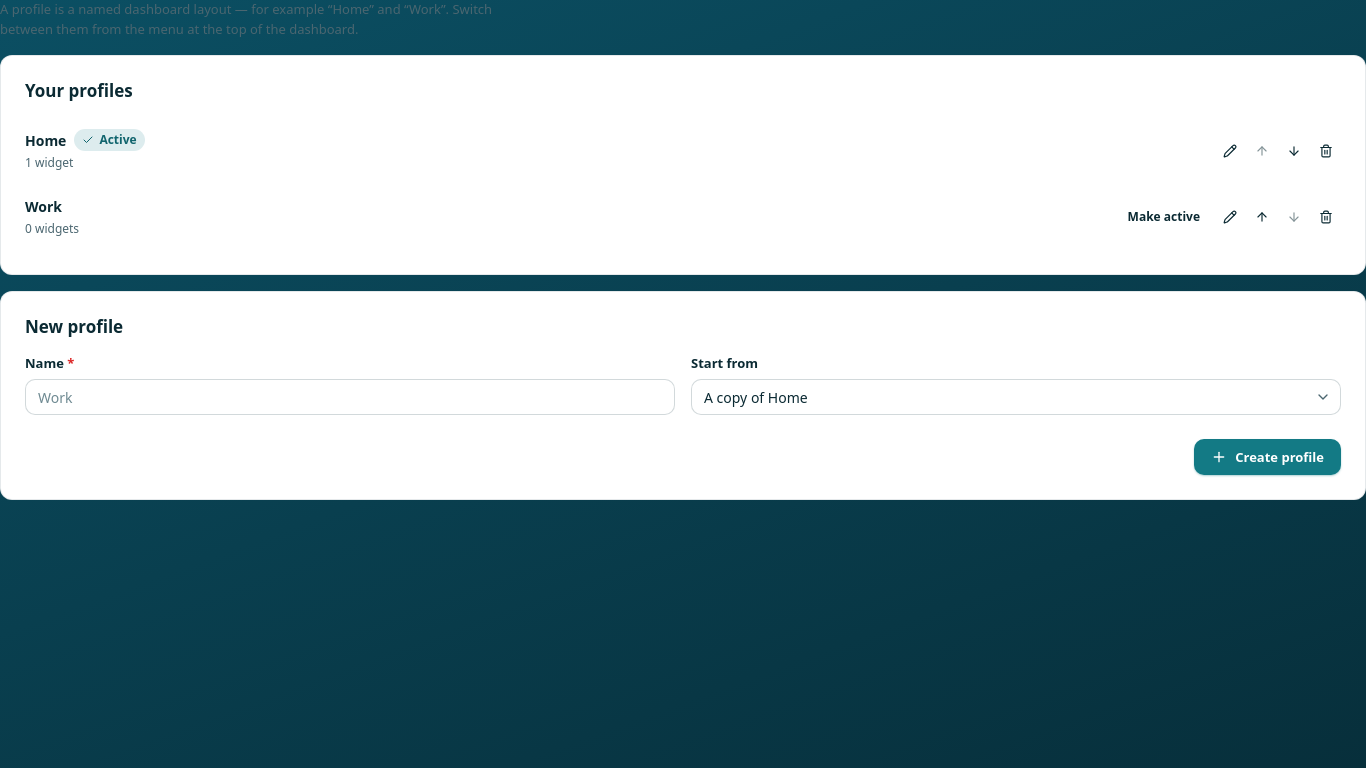
Test: Profiles settings › renames, reorders, activates and deletes
The image size is (1366, 768).
Click the button named "Rename Work" at point(1230, 217), box [1215,202,1245,232]
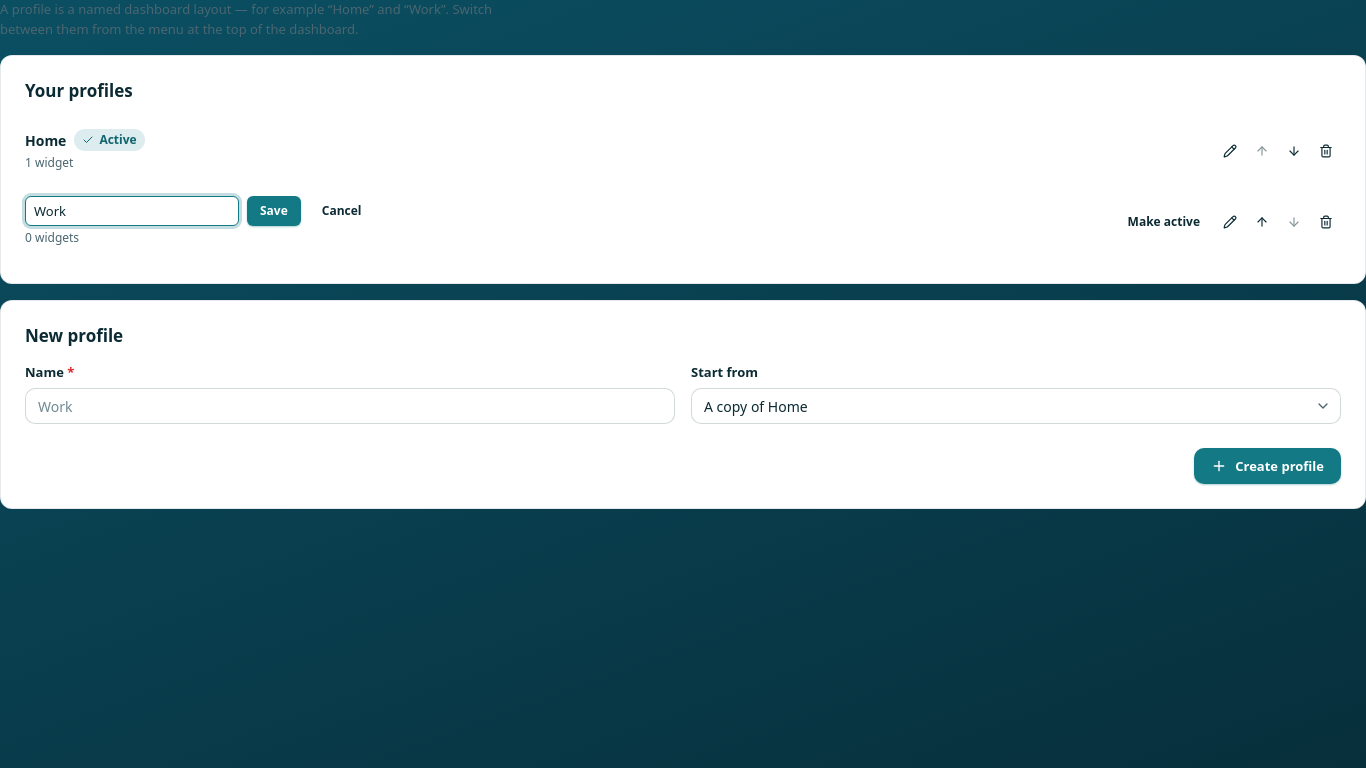
Replace the text in the field named "Profile name" with "Office" at point(132, 211), box [25,196,239,226]
Then press Enter
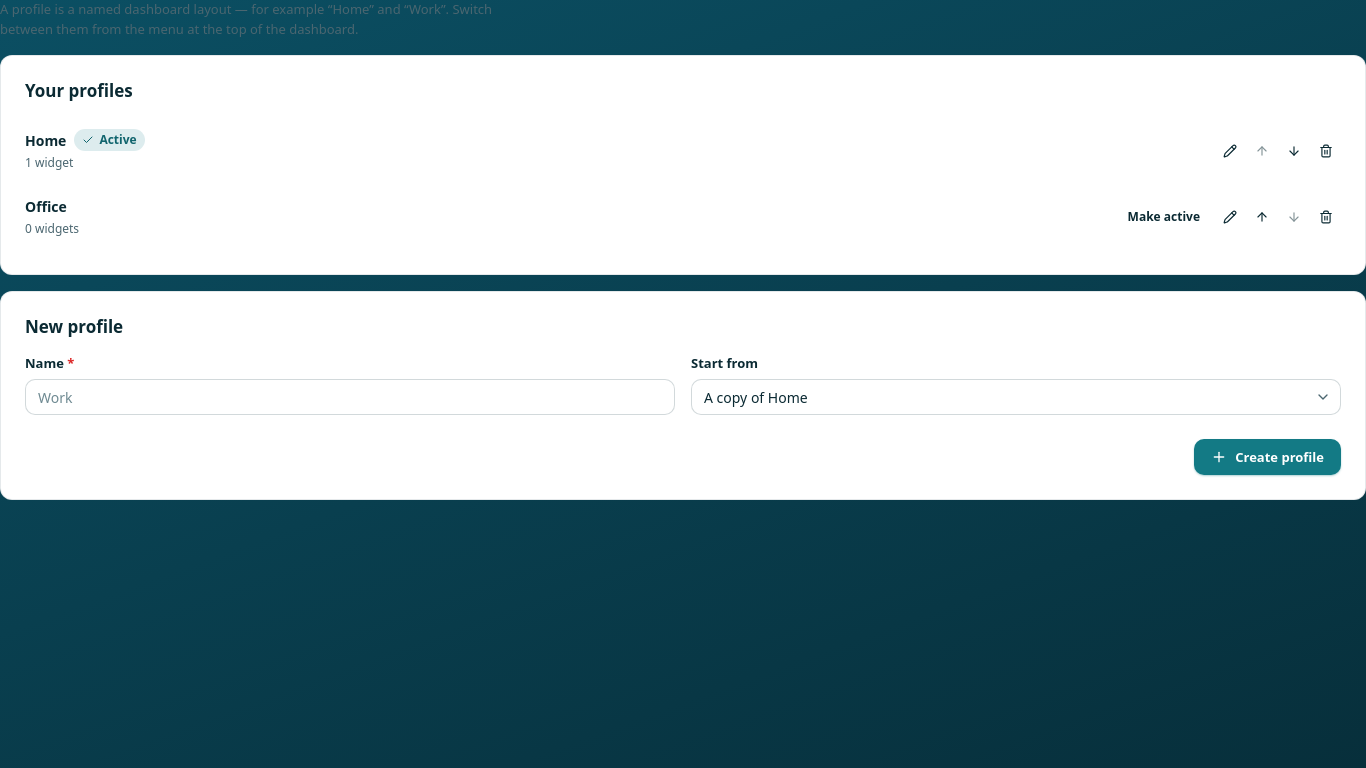
Result: the text "Office" is shown at [25,196,67,217]
Click the button named "Move Office up" at point(1262, 217), box [1247,202,1277,232]
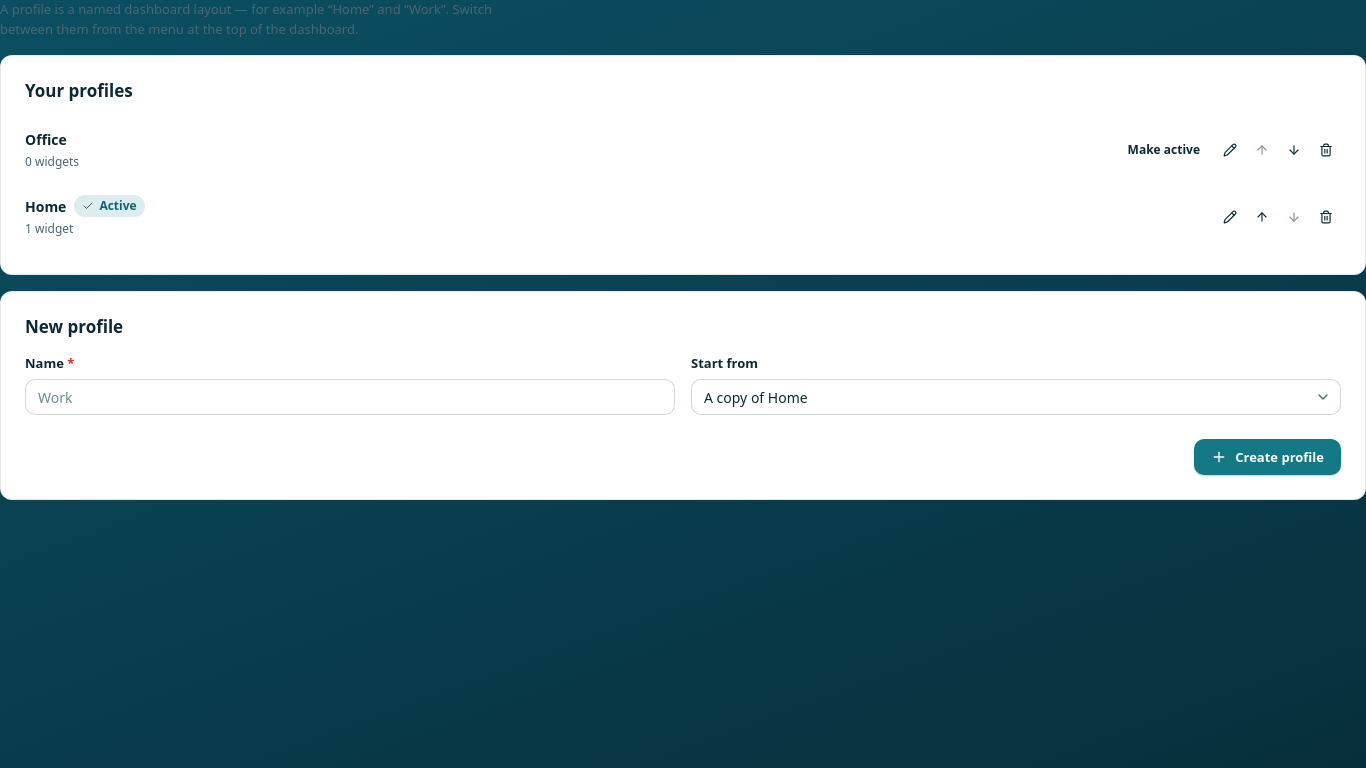
Click the button "Make active" at point(1164, 150), box [1115,135,1213,165]
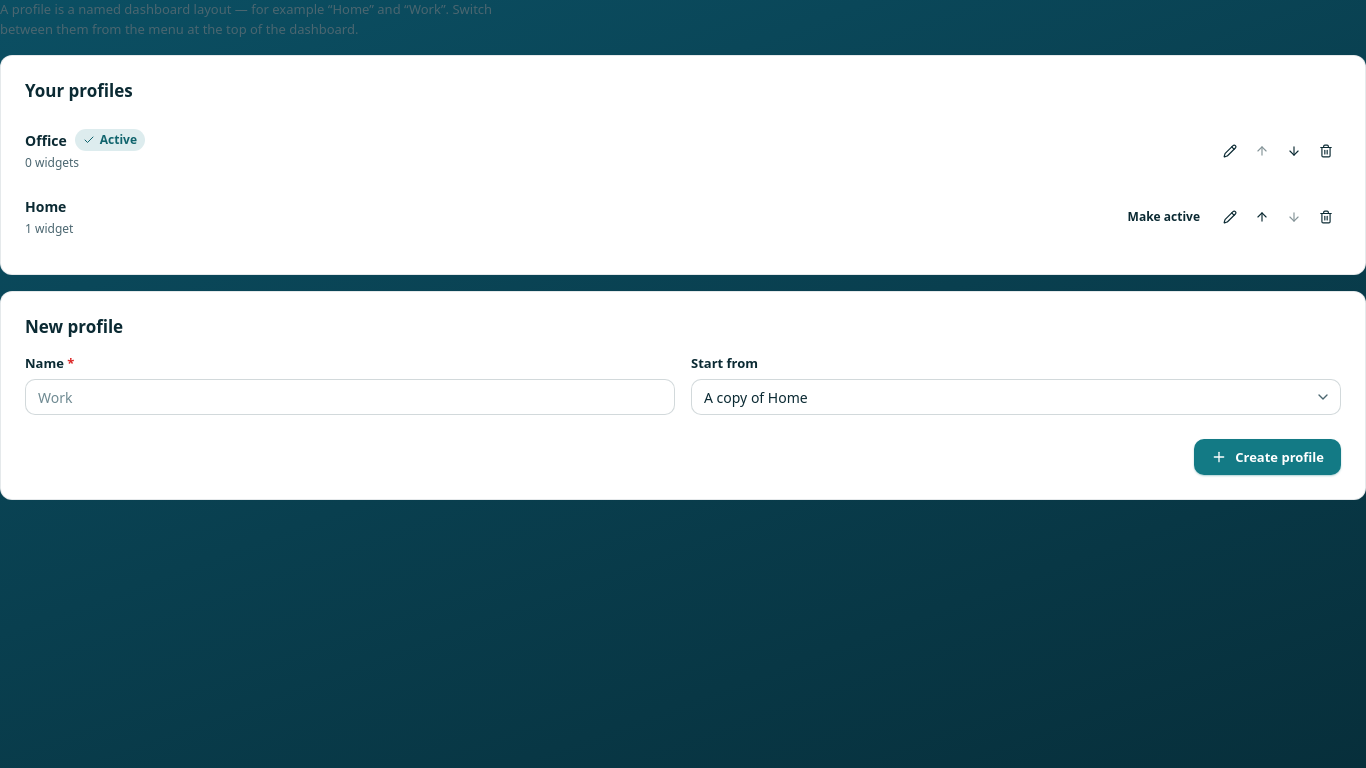
Click the button named "Delete Office" at point(1326, 151), box [1311,136,1341,166]
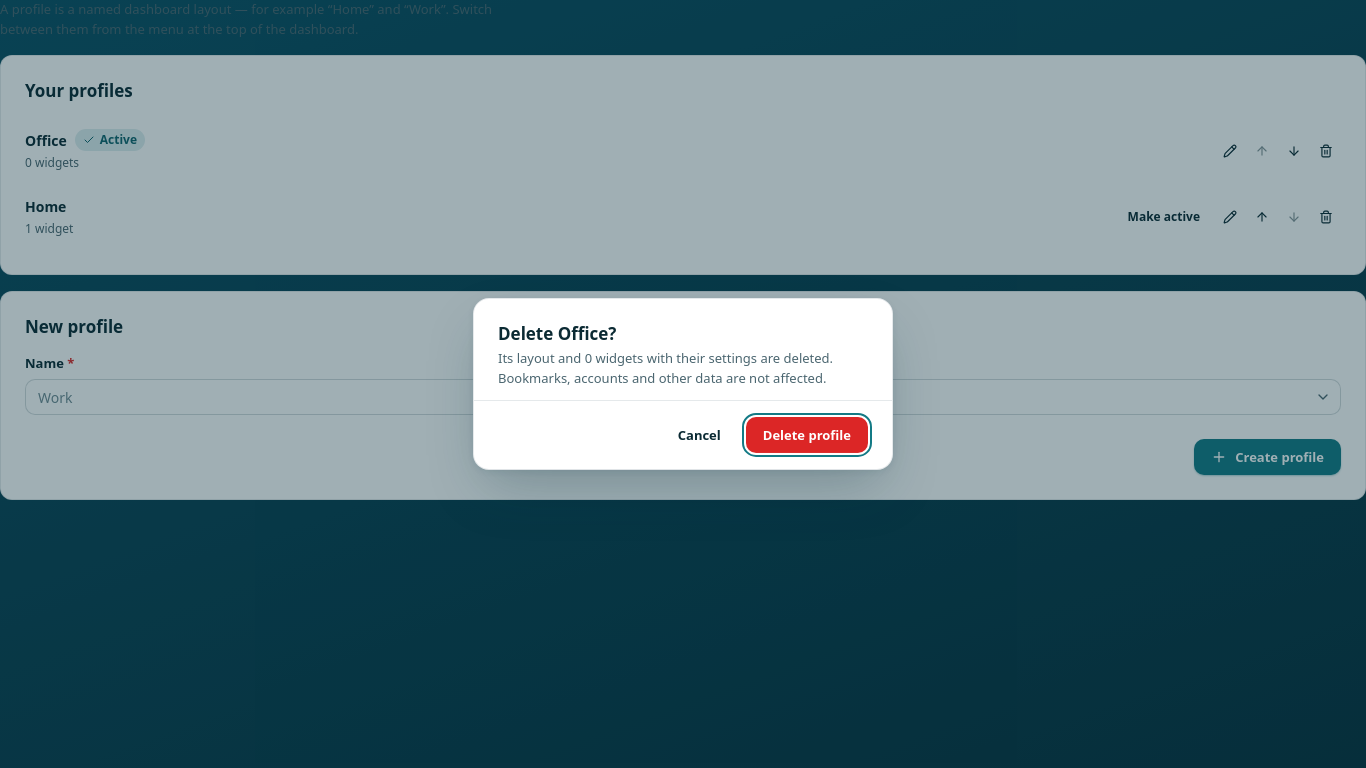
Click the button "Delete profile" at point(807, 435), box [746,417,868,453]
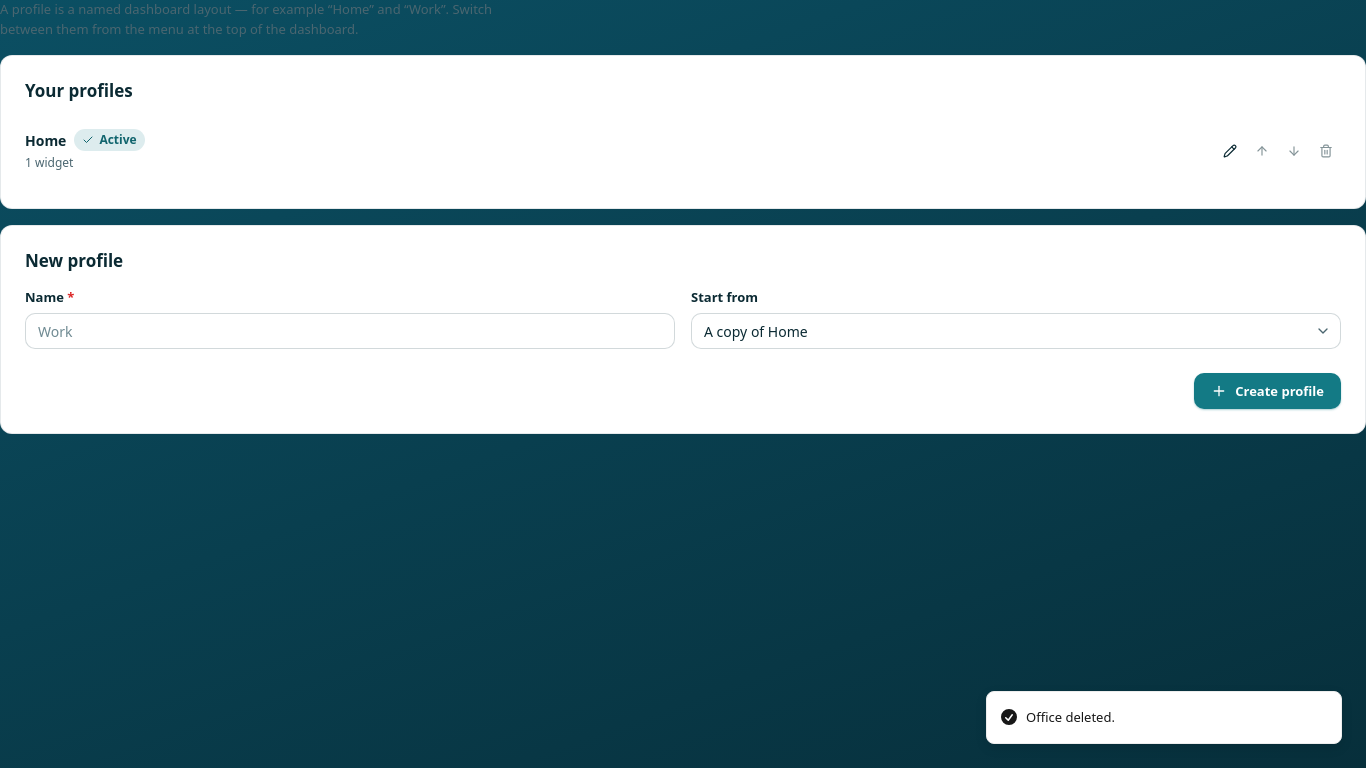
Result: the button named "Delete Home" is disabled at [1311,136,1341,166]
